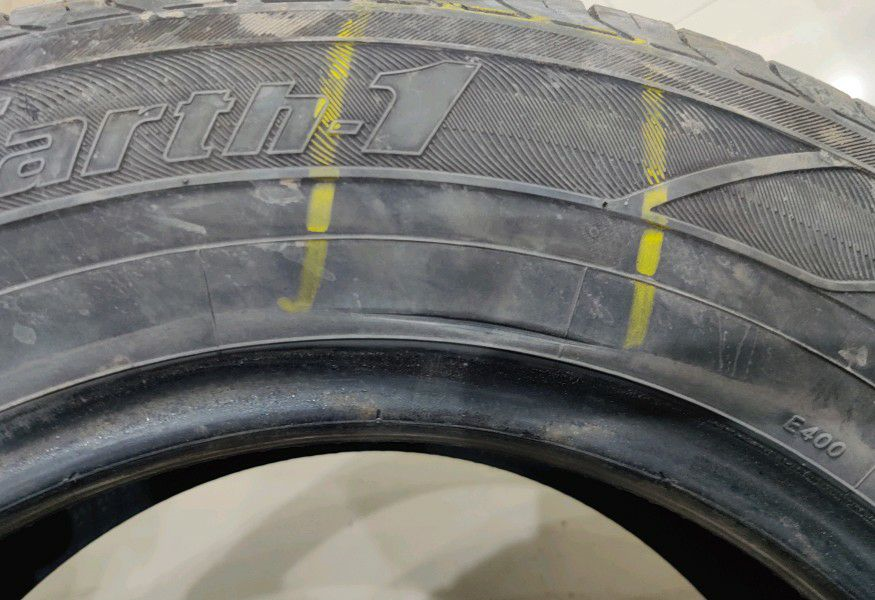CBU: (382, 63, 620, 251)
